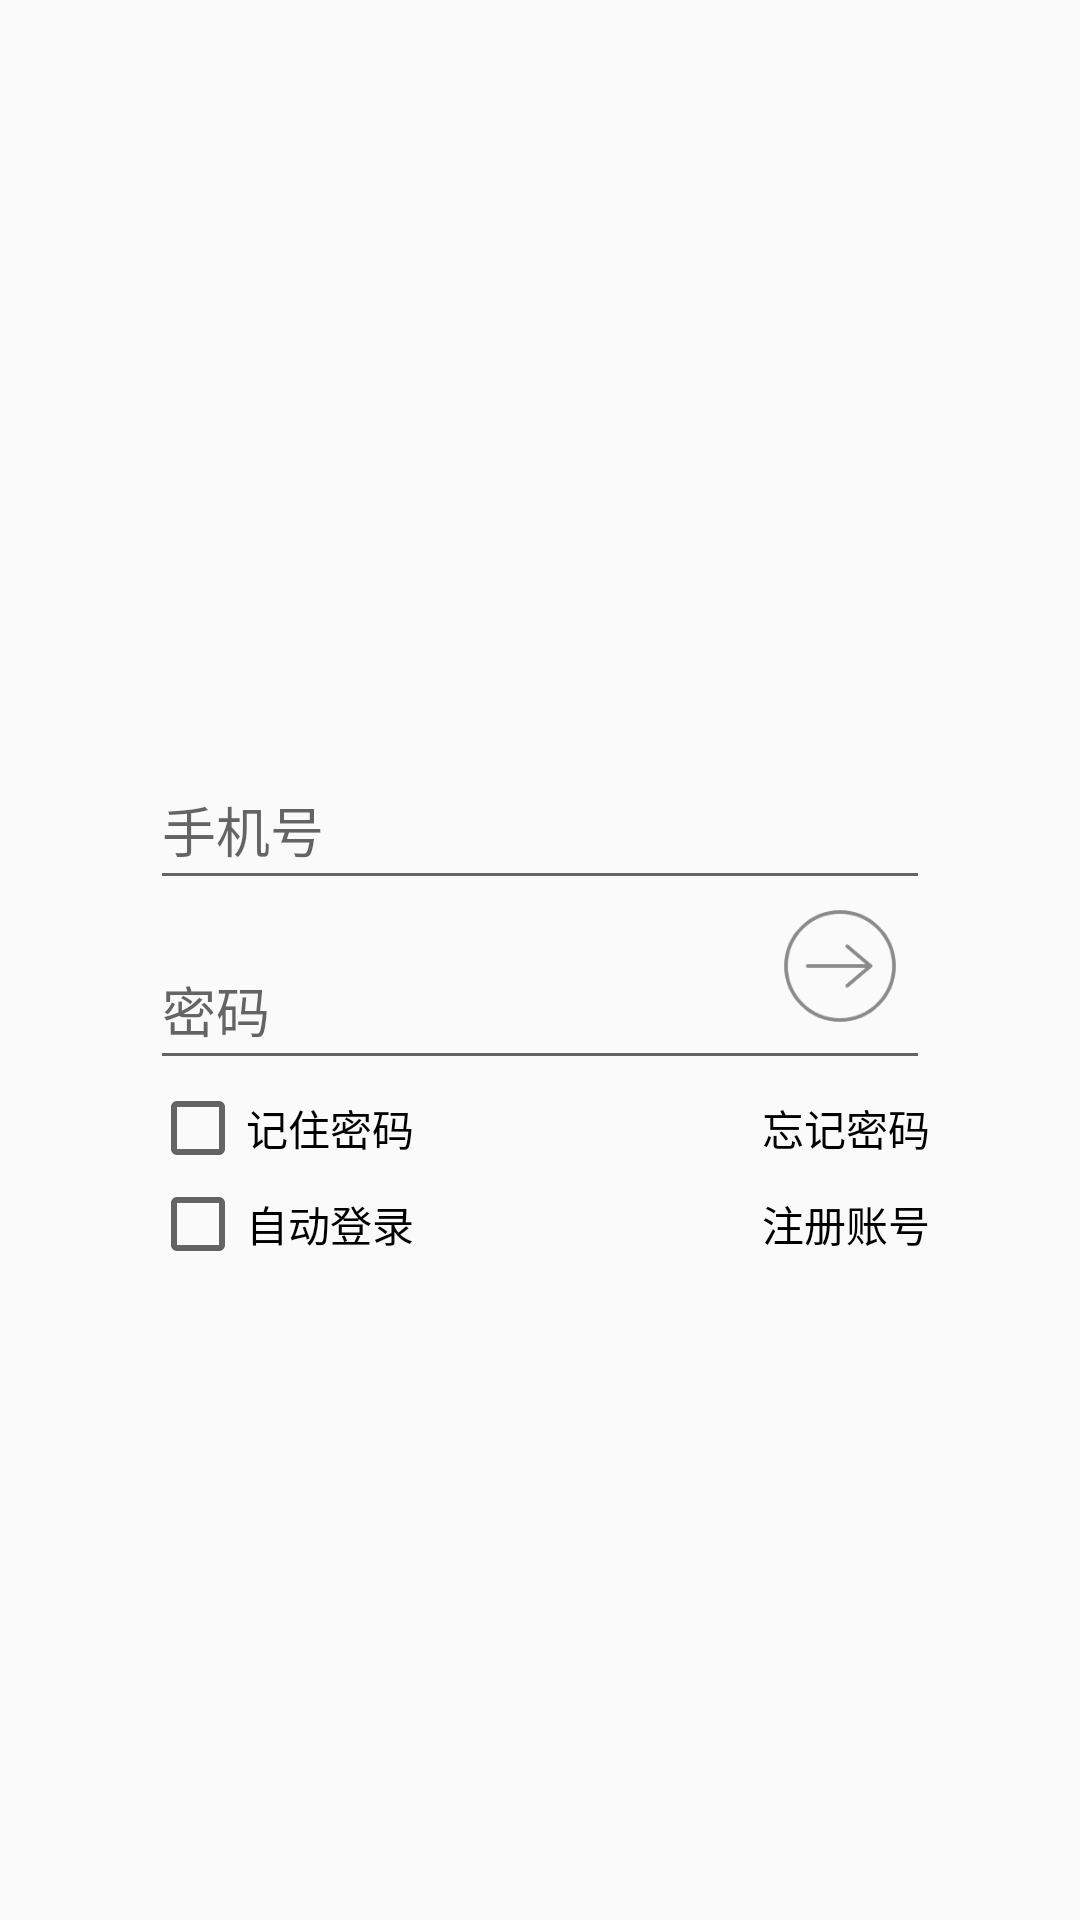

Locate icon controls on the screen. Image size 1080*1920, boxes as bbox=[x1, y1, x2, y2].
login: bbox=[784, 910, 896, 1022]
